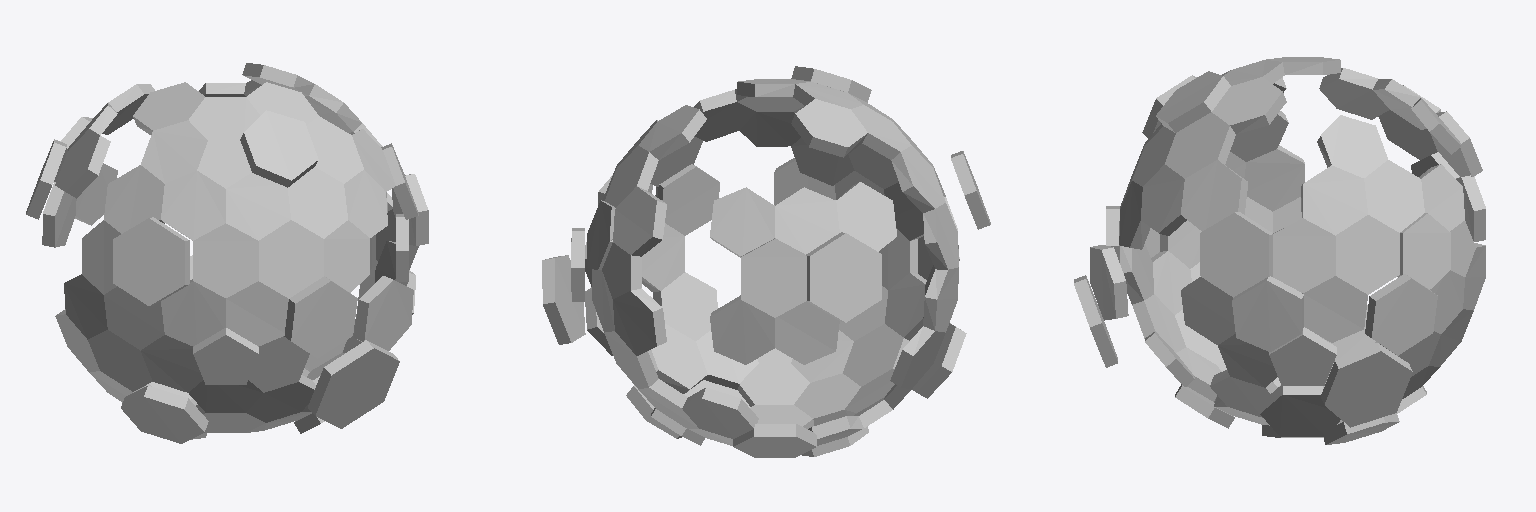
Rendered from desertGrass.obj.
The picture shows the model from 3 angles: view 1: azimuth 30°, elevation 25°; view 2: azimuth 150°, elevation 25°; view 3: azimuth 270°, elevation 25°; orthographic projection.
Visible parts, largest first — view 1: Grass_GD_mesh.001; view 2: Grass_GD_mesh.001; view 3: Grass_GD_mesh.001.
Boxes of the visible parts, box(x1,y1,x2,y2) form: Grass_GD_mesh.001: box(26, 63, 428, 443); Grass_GD_mesh.001: box(542, 66, 990, 457); Grass_GD_mesh.001: box(1074, 57, 1485, 444).
Size of the model in its own units: 4.73 by 4.23 by 4.63.